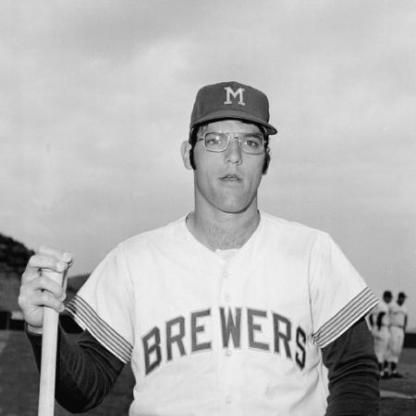face: (192, 83, 269, 215)
